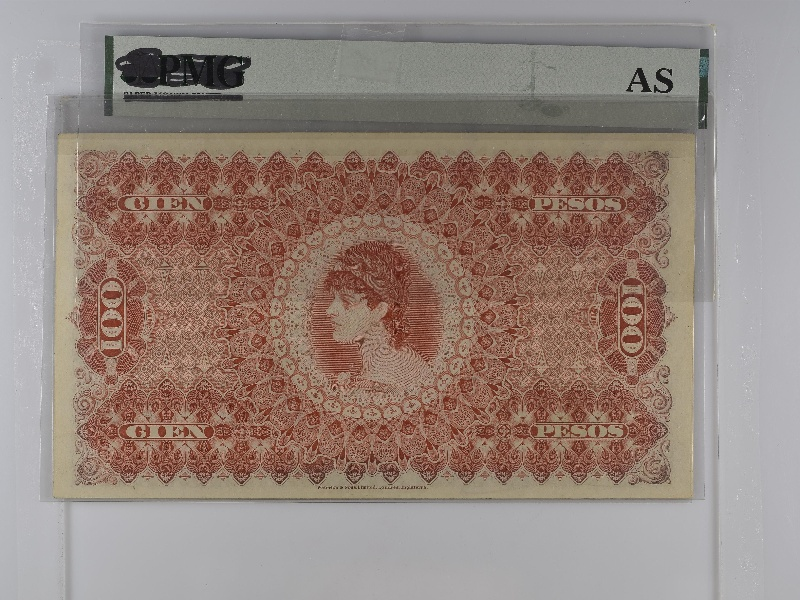papernote: (58, 125, 696, 502)
